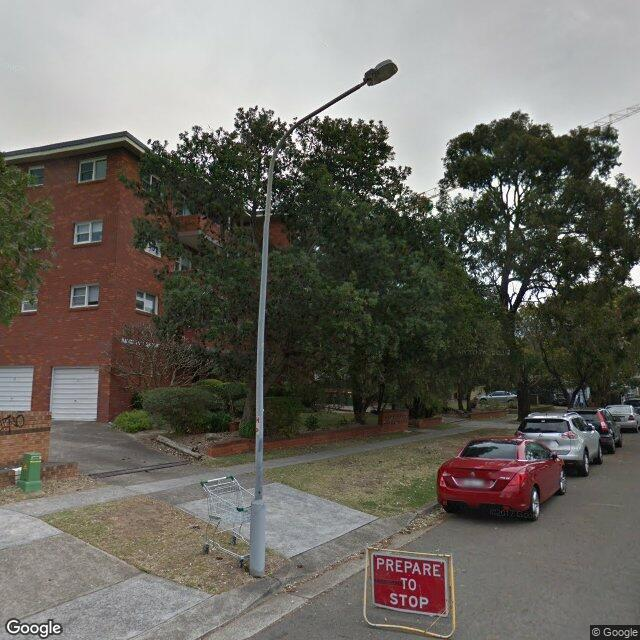steel-pole: (248, 153, 275, 576)
streetlight: (274, 59, 399, 156)
